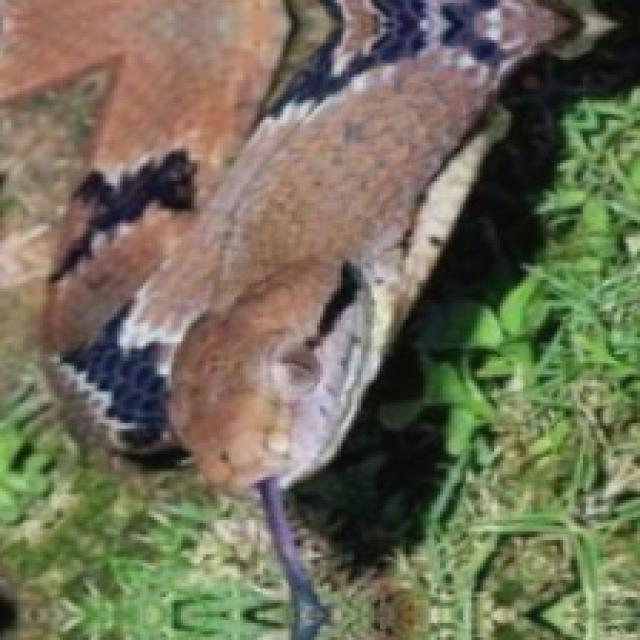dog-toothed cat snake: (0, 0, 569, 637)
